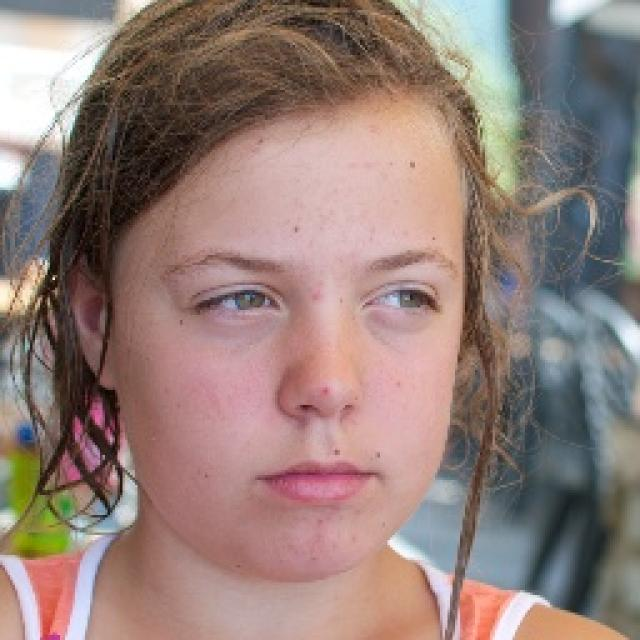earlobe: (64, 248, 122, 392)
